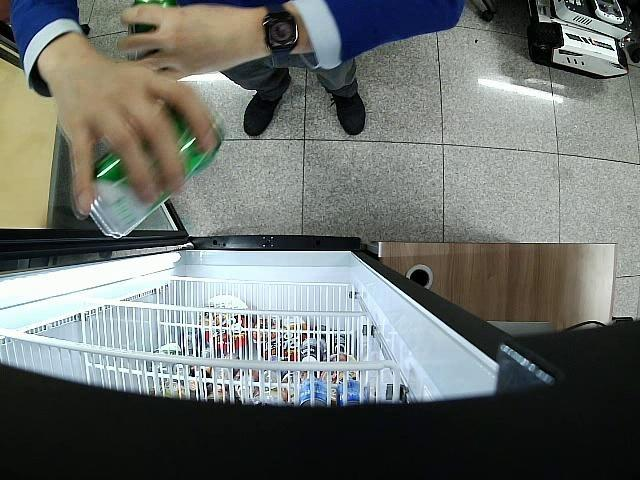12_chilsungCider: (89, 107, 228, 238), (126, 0, 178, 62)
